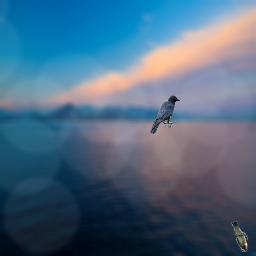Crow: (150, 95, 181, 135)
Swallow: (231, 221, 248, 252)
